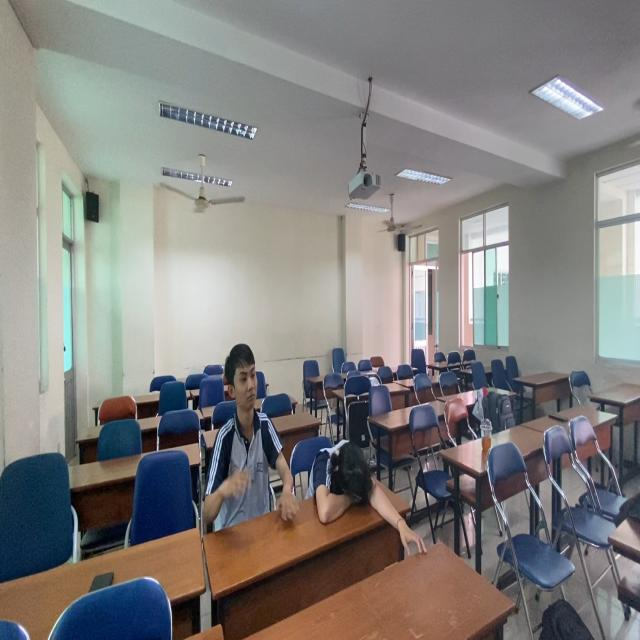sleep: (304, 426, 416, 555)
